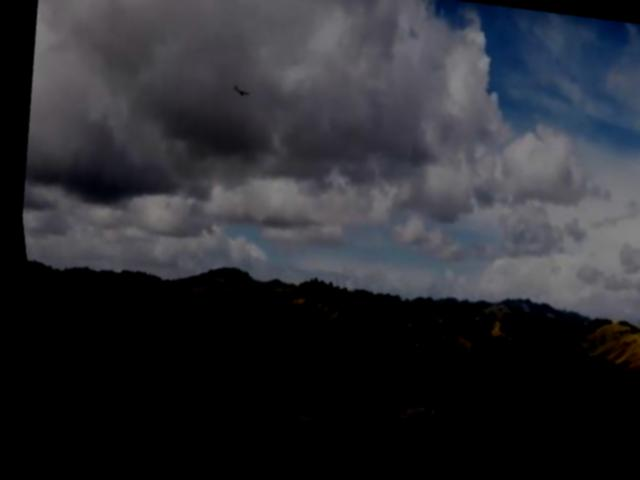iha: (229, 86, 247, 101)
